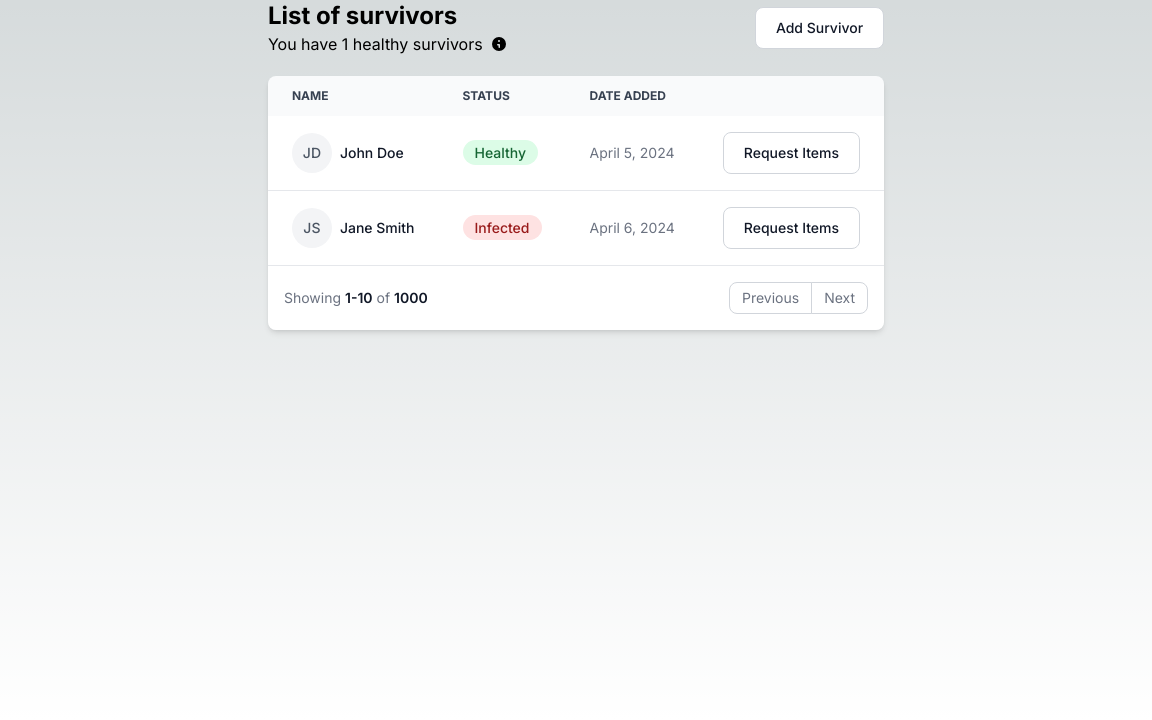
it: Survivors List › opens the new survivor modal when "Add Survivor" button is clicked
Click the button "Add Survivor". click: x=820, y=28
box: [755, 7, 884, 49]
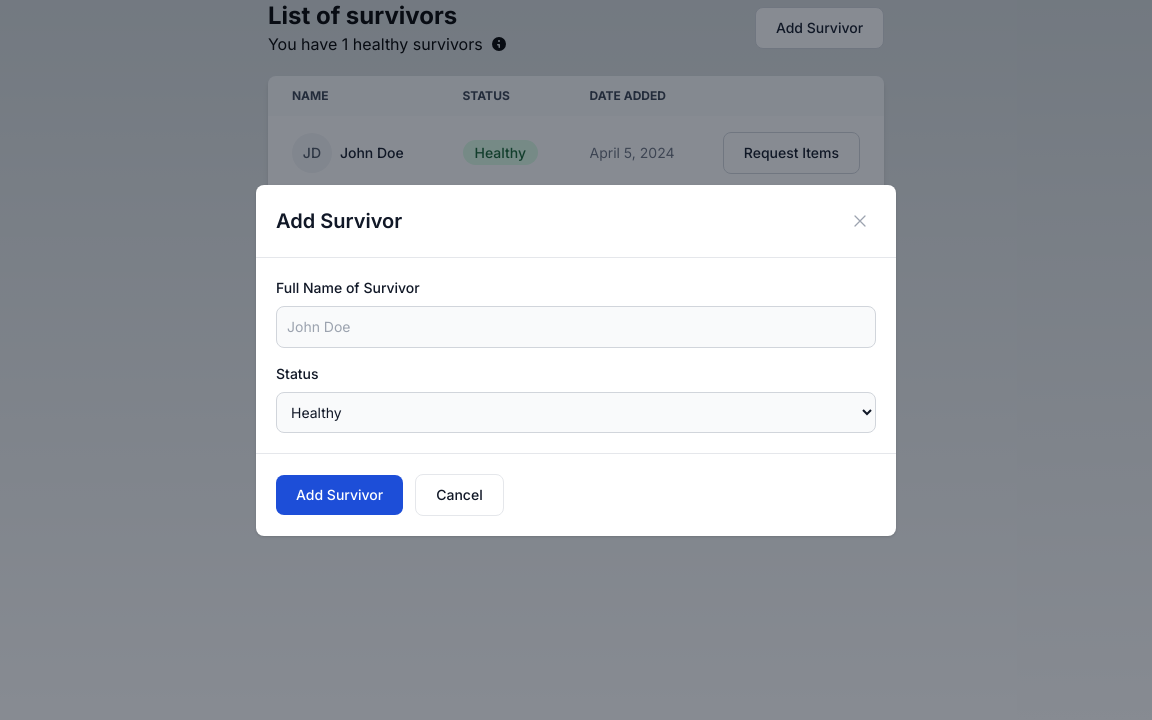
Now the field labelled "Full Name of Survivor" is shown, box [276, 306, 876, 348]
Now the dropdown labelled "Status" is shown, box [276, 392, 876, 432]
